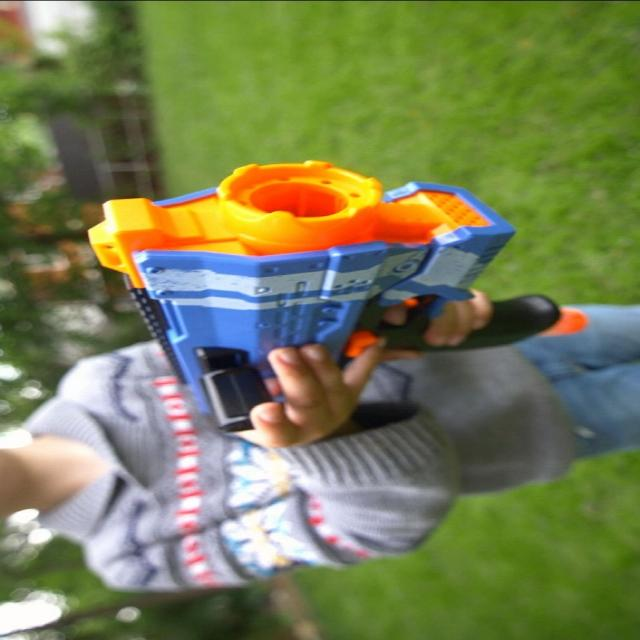Nerf gun: (88, 156, 608, 444)
